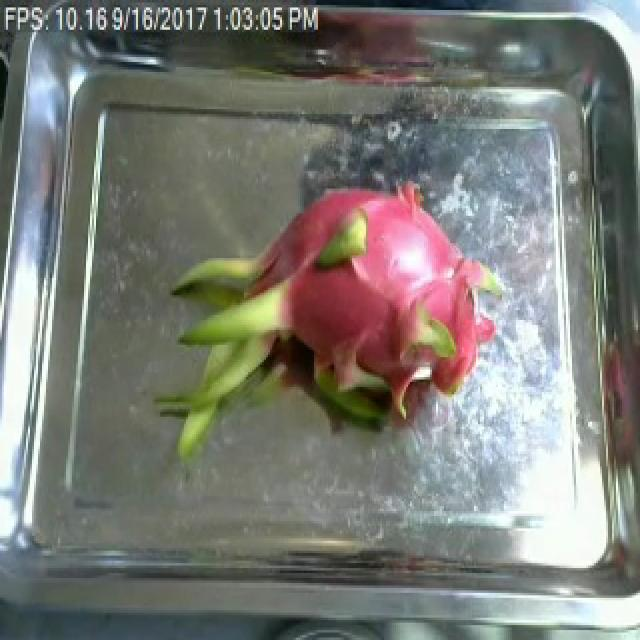fruit: (144, 154, 504, 486)
